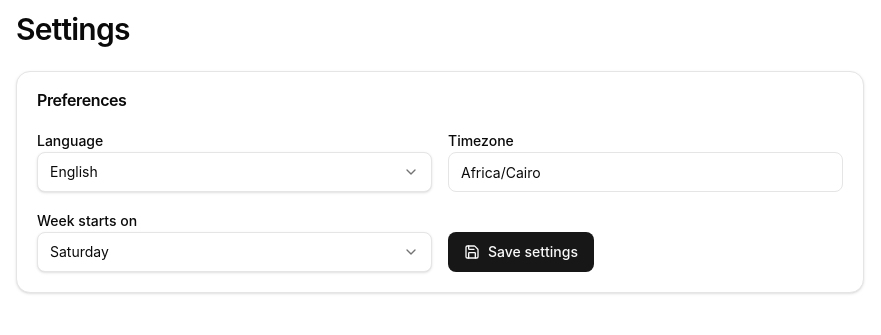
it: localized validation feedback › shows a localized timezone error in en and inherits page direction
This screenshot has width=881, height=335.
Replace the text in the field labelled "Timezone" with "Mars/Olympus" at (646, 172), box x1=448 y1=152 x2=843 y2=192
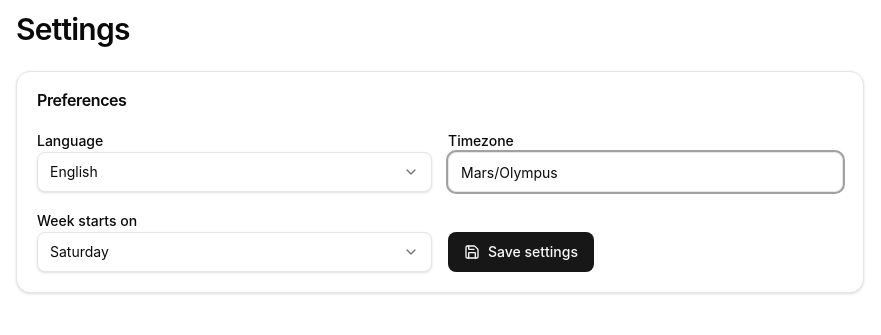
Click the button "Save settings" at (521, 252), box x1=448 y1=232 x2=594 y2=272
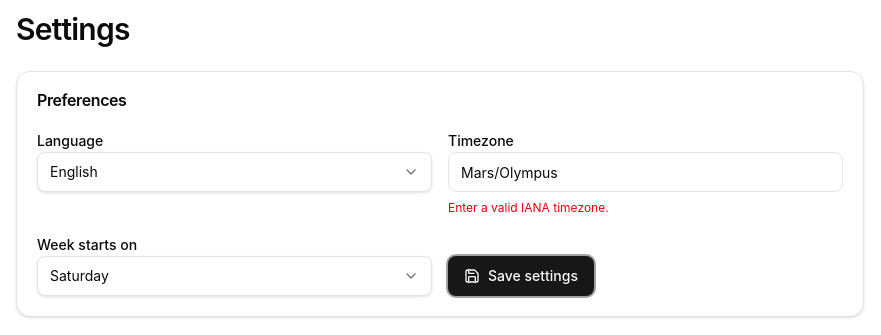
Now the text "Enter a valid IANA timezone." is shown, box x1=448 y1=200 x2=609 y2=215
